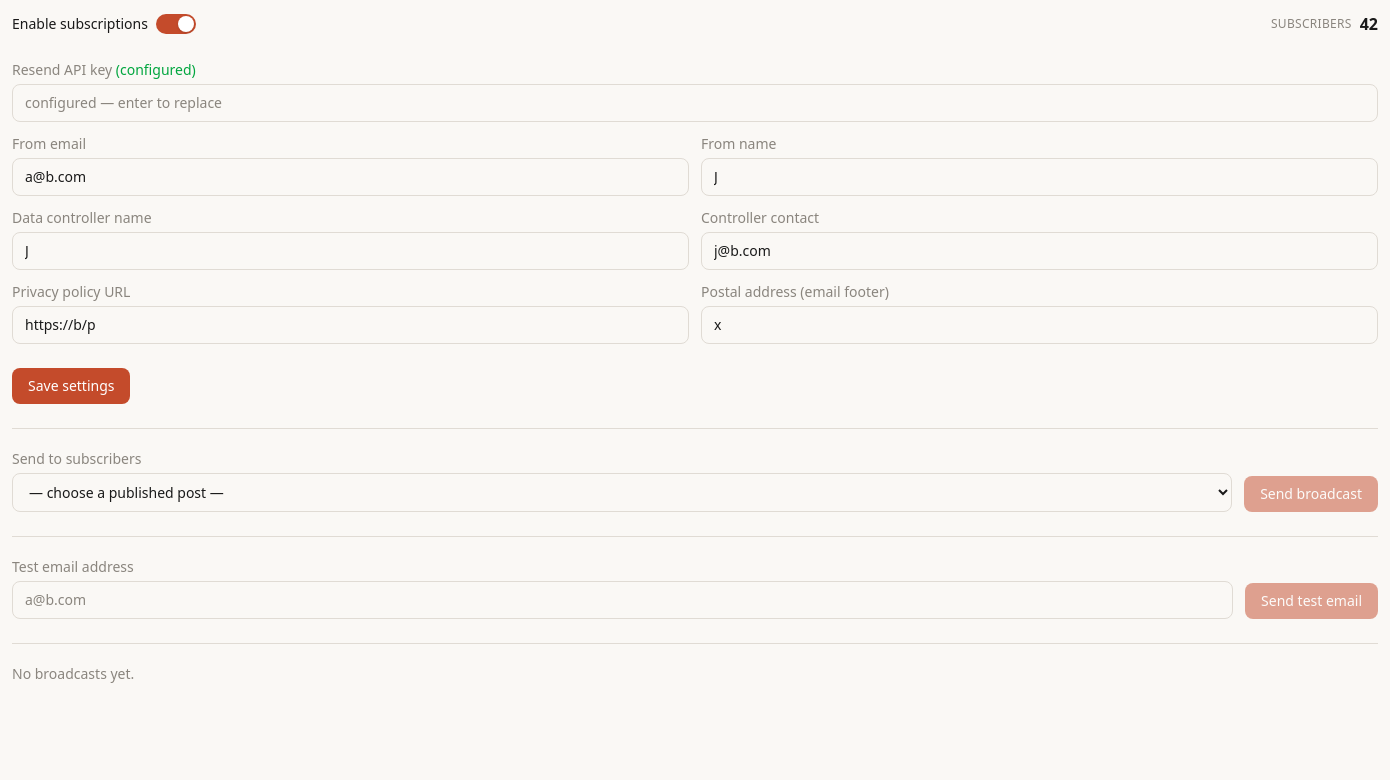
Test: SubscriptionsPanel › shows error banner (not success) when the polled ledger row has status=failed
The image size is (1390, 780).
Expected: the text "42" is shown, [1360,12,1378,36]
Step 1. Select "Hello World" in the dropdown named "select post" → (622, 492), box [12,473,1232,512]
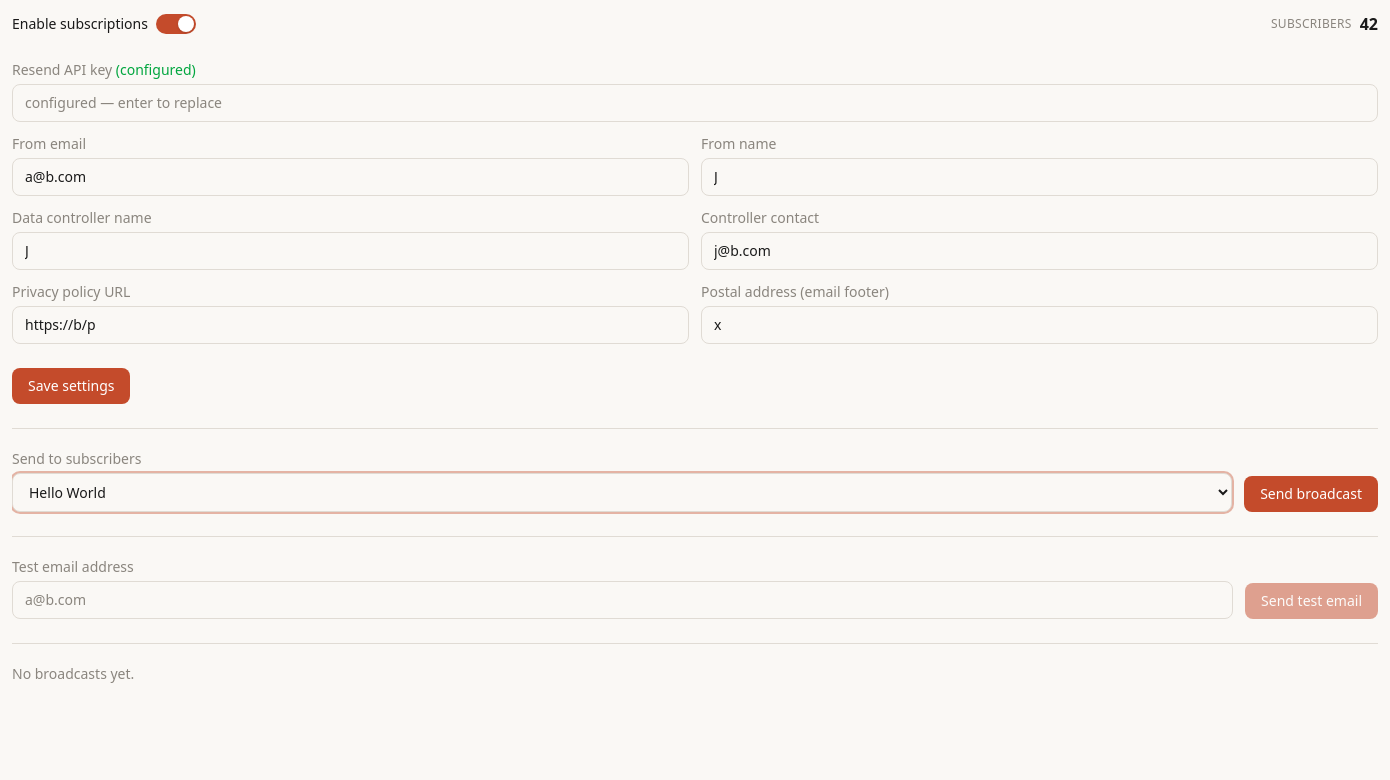
Step 2. Click the button "Send broadcast" → click(1311, 494), box [1244,476,1378,512]
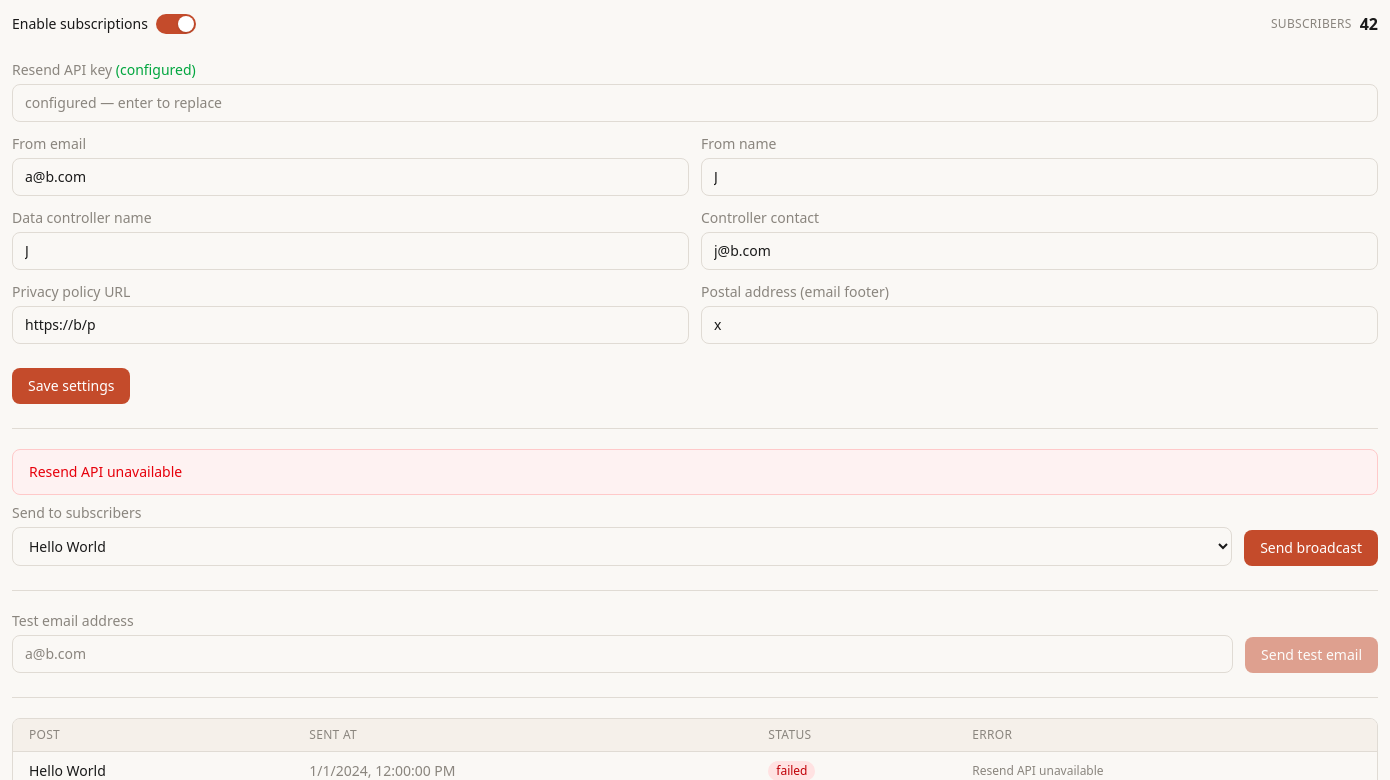
Expected: the text "Resend API unavailable" is shown, [12,449,1378,495]
